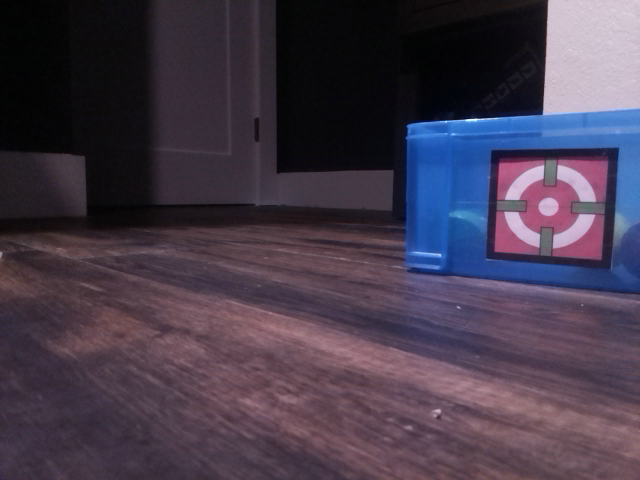drop-bin: (485, 146, 619, 269)
